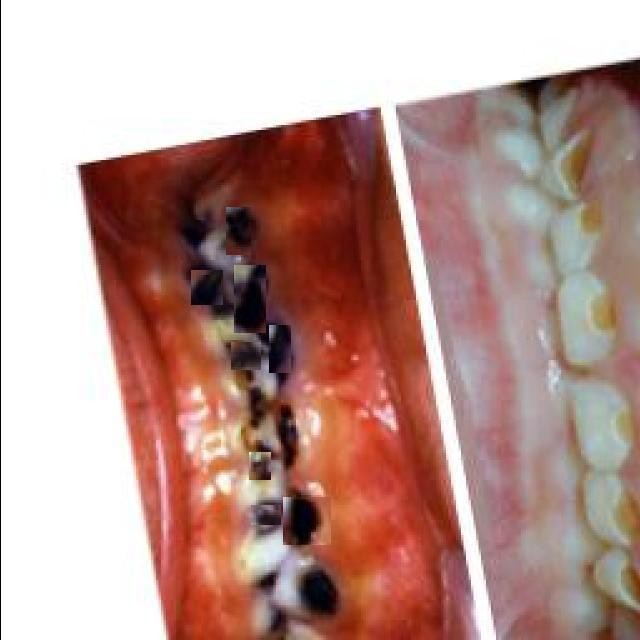caries: (282, 497, 330, 545), (233, 265, 265, 333), (280, 410, 305, 465), (303, 575, 335, 613), (225, 207, 250, 255), (190, 270, 222, 305), (268, 325, 290, 373), (230, 342, 260, 370), (240, 393, 272, 418), (248, 452, 270, 480), (250, 505, 280, 525), (263, 567, 283, 595), (187, 223, 205, 248)
